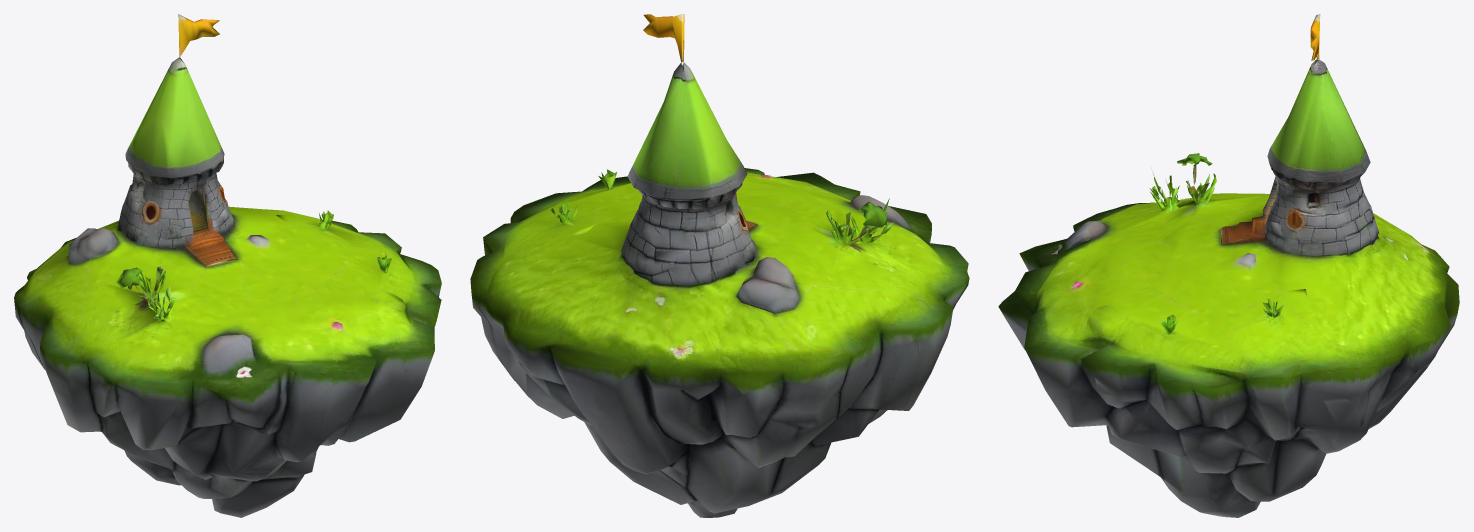
The model's file is floating-island.glb.
3 views of the same model, side by side, from view 1: azimuth 30°, elevation 25°; view 2: azimuth 150°, elevation 25°; view 3: azimuth 270°, elevation 25° (orthographic). The views are drawn at different scales.
Bounding box in the file's own units: 1.6 × 1.91 × 1.61.
1 material, 1 textured.
